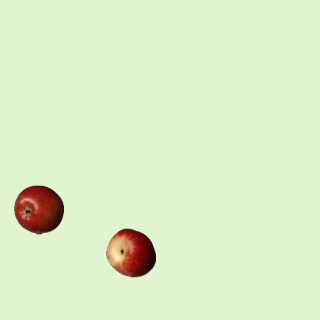Apple Braeburn: (13, 184, 63, 234)
Nectarine: (105, 227, 155, 277)
